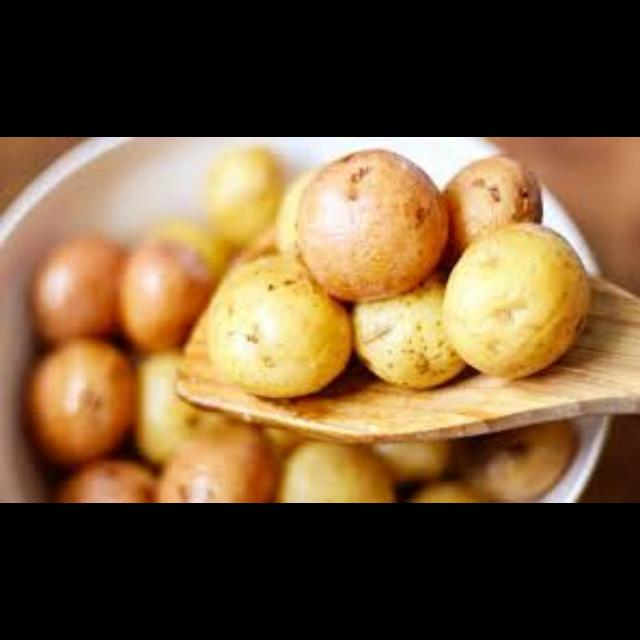Defected potato: (290, 148, 452, 304)
Potato: (441, 225, 597, 382), (202, 252, 358, 396)
